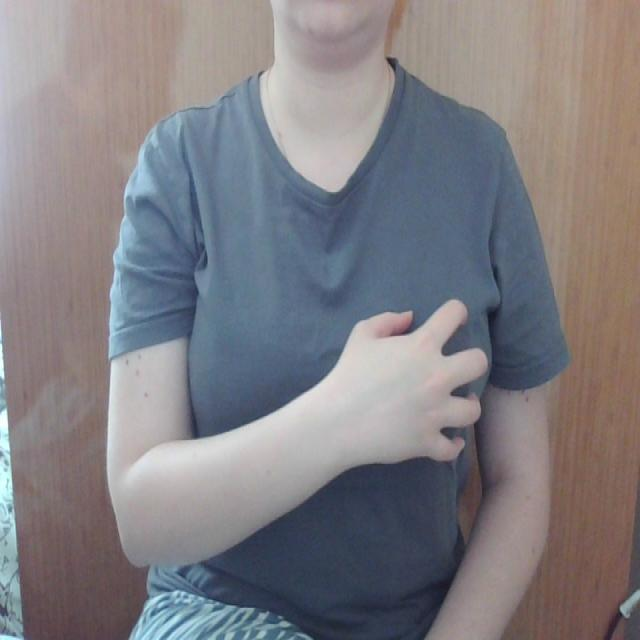Anne: (178, 272, 521, 476)
